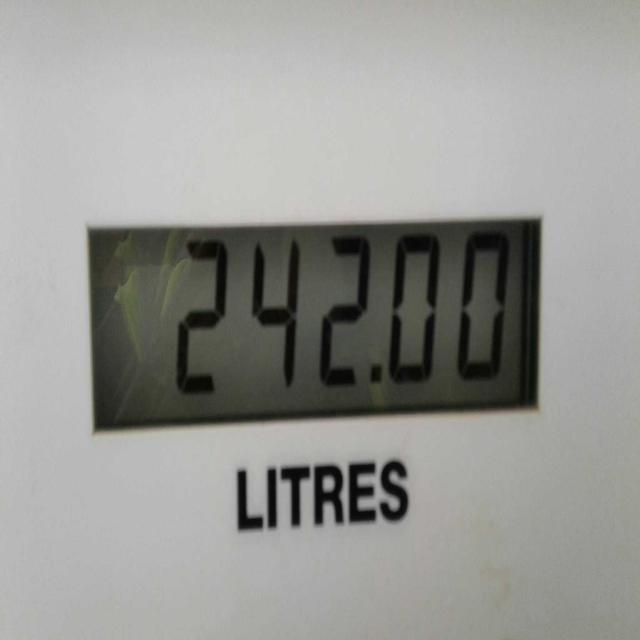.: (363, 350, 388, 401)
0: (384, 233, 451, 396), (456, 225, 515, 386)
2: (168, 232, 242, 406), (316, 229, 368, 401)
4: (235, 232, 308, 398)
